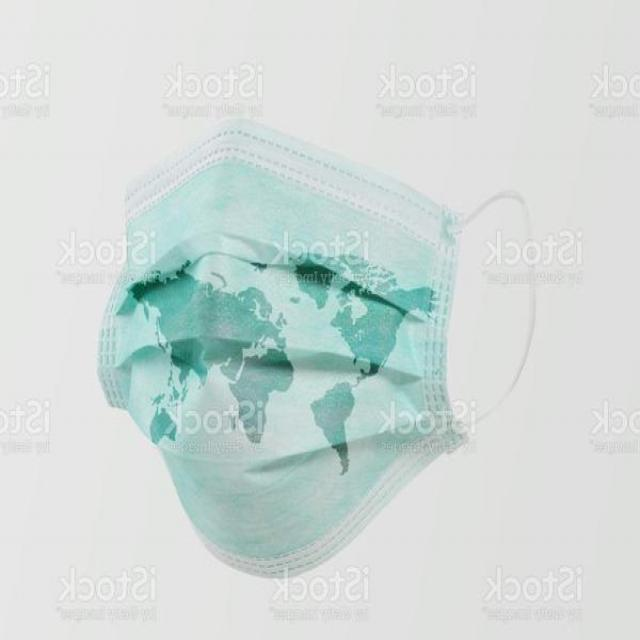face mask: (94, 126, 538, 584)
